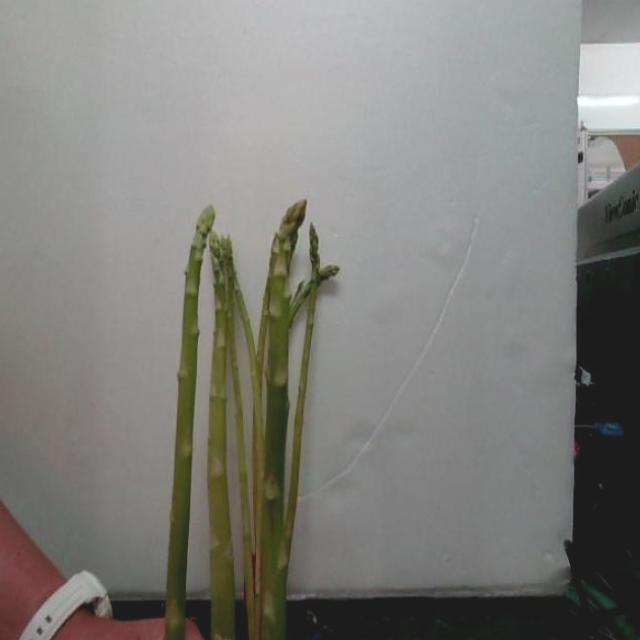aspargus: (164, 207, 216, 640), (256, 200, 306, 640)
